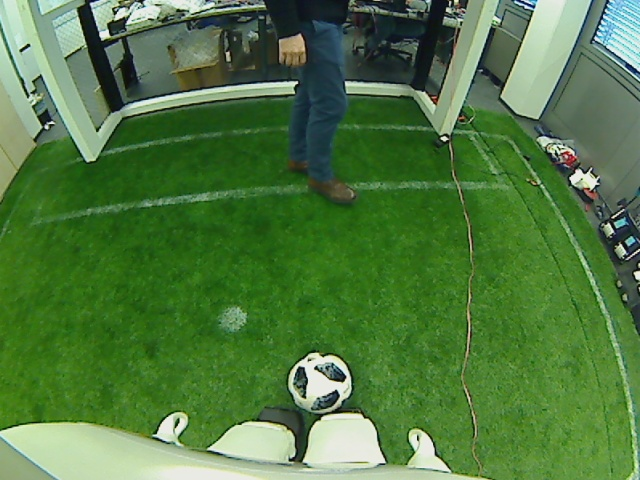ball: (286, 349, 356, 414)
